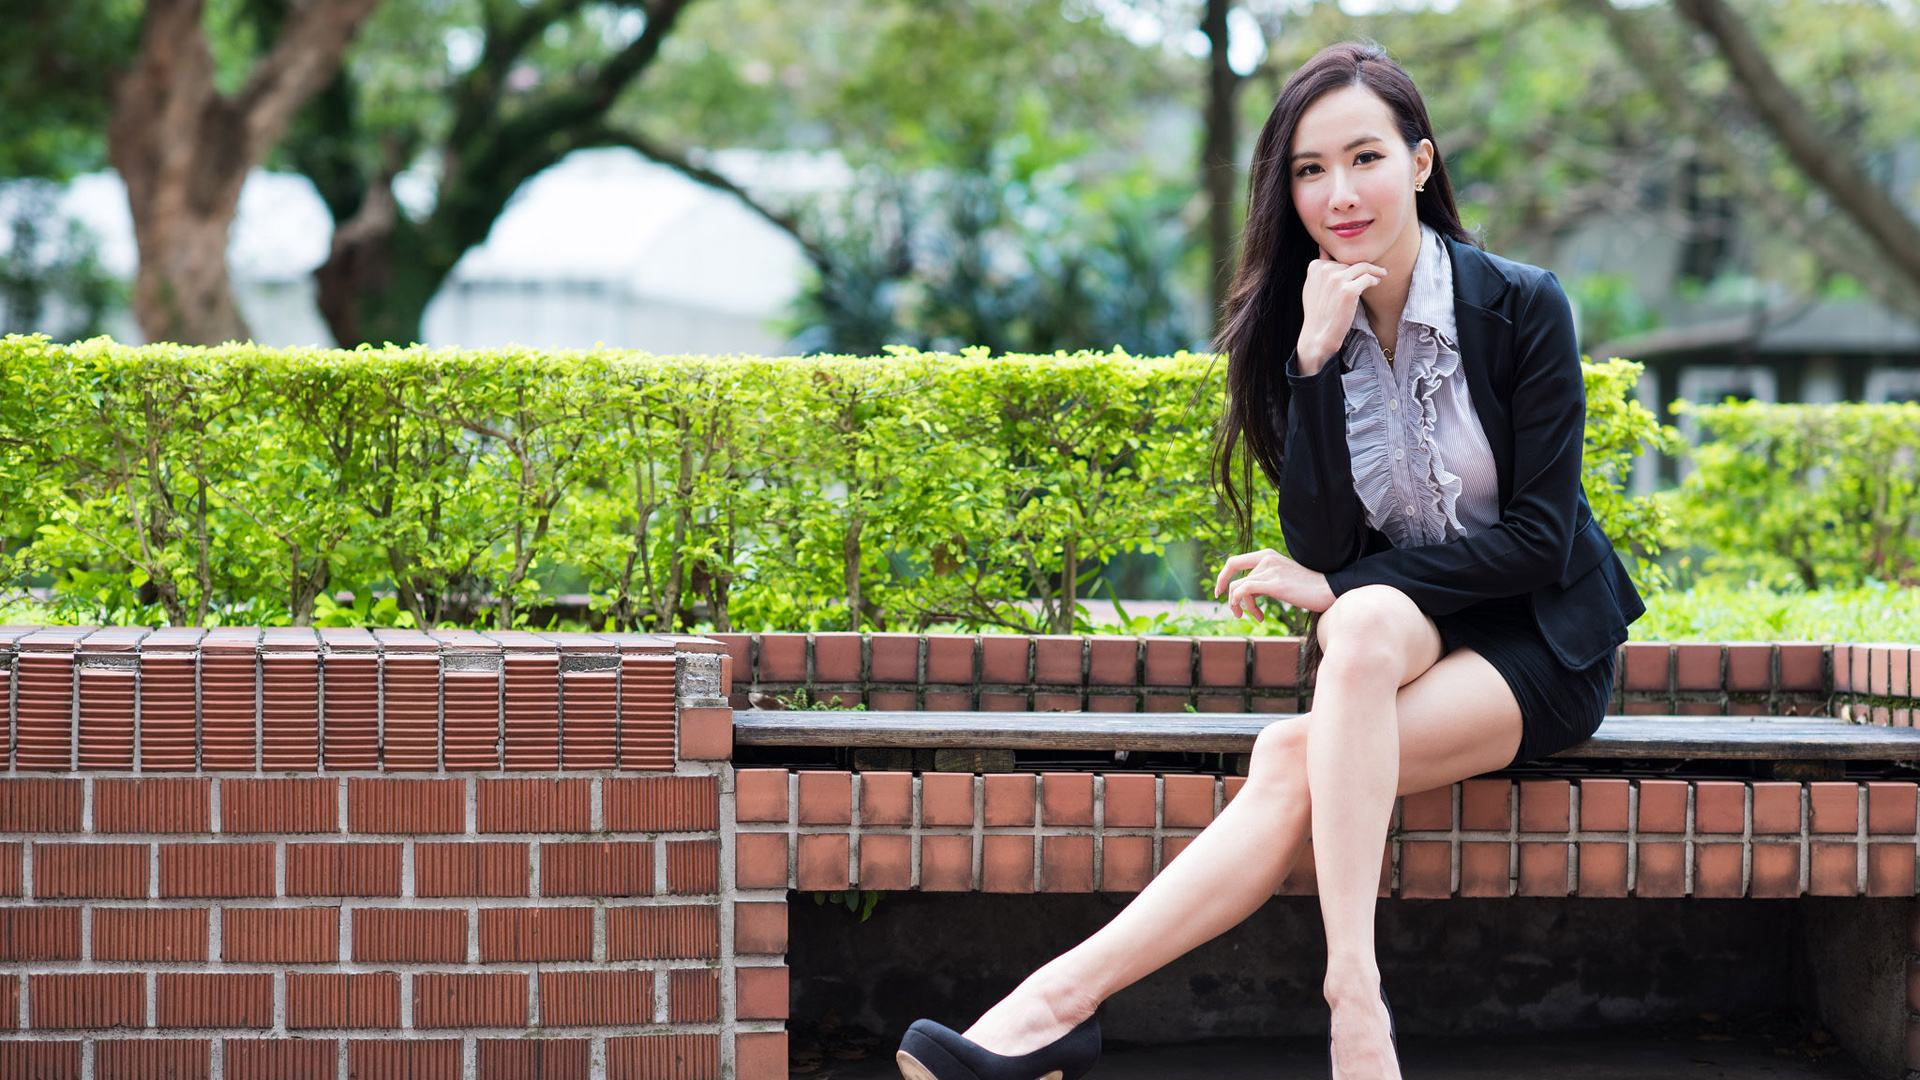person: (995, 42, 1487, 1080)
